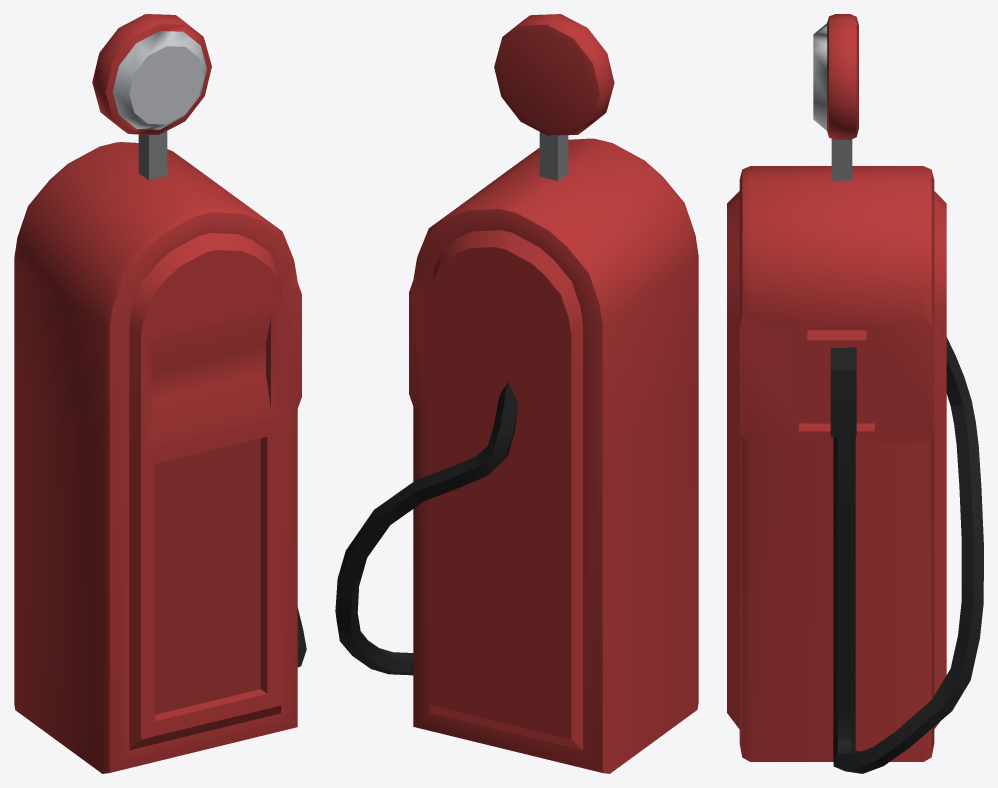
The model's file is SM_fueltank.fbx.
3 renders of one model, left to right at view 1: azimuth 30°, elevation 25°; view 2: azimuth 150°, elevation 25°; view 3: azimuth 270°, elevation 25°, orthographic.
Visible parts, largest first — view 1: Box245; view 2: Box245; view 3: Box245.
Boxes of the visible parts, <box> form: Box245: <box>14,14,306,773</box>; Box245: <box>335,14,698,773</box>; Box245: <box>727,14,983,773</box>.
Bounding box in the file's own units: 32.36 × 80.45 × 26.94.
